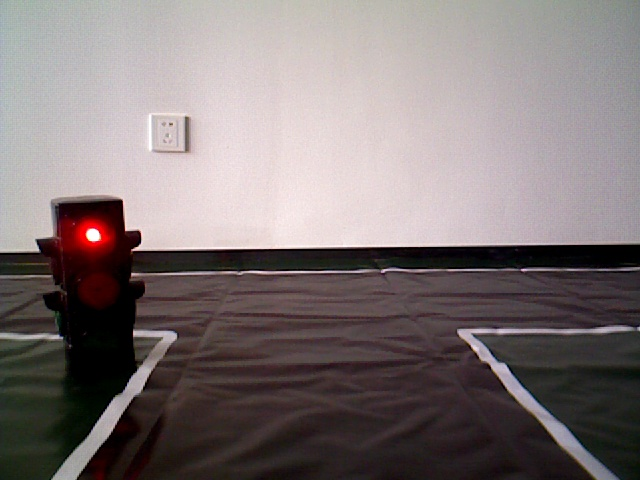red: (48, 203, 134, 366)
